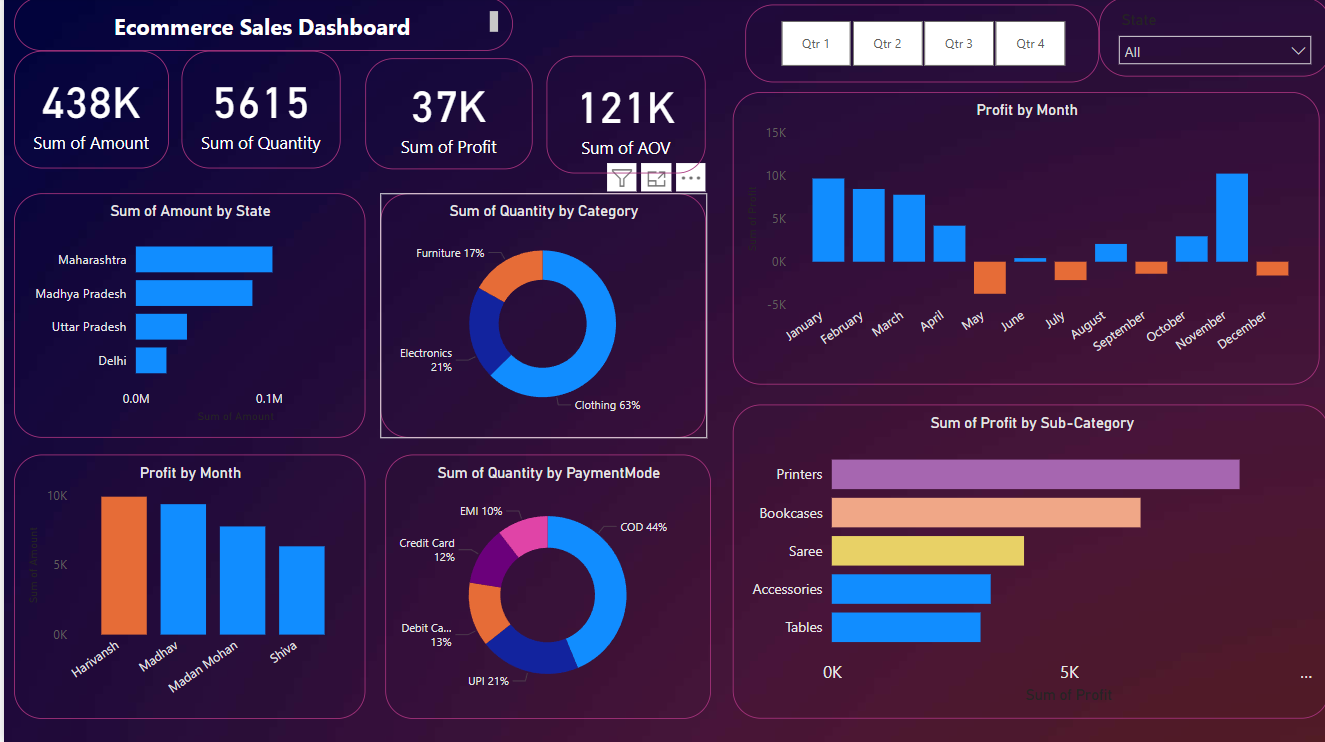

This screenshot's page, from the dashboard's own definition file:
{"tool":"powerbi","page":{"name":"Page 1","canvas":[1280,720],"ordinal":0},"visuals":[{"type":"textbox","box":[9.6,0,481.6,52.1],"z":0},{"type":"columnChart","title":"Profit by Month","fields":{"Y":["Sum(Details.Profit)"],"Category":["Orders.Order Date.Variation.Date Hierarchy.Month"]},"box":[703.9,91.9,566.7,282.7],"z":1000},{"type":"barChart","fields":{"Category":["Details.Sub-Category"],"Y":["Sum(Details.Profit)"]},"box":[703.9,393.8,576.3,303.3],"z":2000},{"type":"donutChart","fields":{"Y":["Sum(Details.Quantity)"],"Category":["Details.Category"]},"box":[363.6,189.4,314.2,236],"z":3000},{"type":"donutChart","fields":{"Y":["Sum(Details.Quantity)"],"Category":["Details.PaymentMode"]},"box":[367.8,441.9,314.2,255.2],"z":4000},{"type":"card","fields":{"Values":["Sum(Details.Amount)"]},"box":[9.6,52.1,149.6,113.9],"z":5000},{"type":"card","fields":{"Values":["Sum(Details.Quantity)"]},"box":[171.5,52.1,153.7,113.9],"z":6000},{"type":"card","fields":{"Values":["Sum(Details.Profit)"]},"box":[348.5,59,161.9,107],"z":7000},{"type":"card","fields":{"Values":["Sum(Details.AOV)"]},"box":[524.2,56.3,153.7,113.9],"z":8000},{"type":"barChart","fields":{"Category":["Orders.State"],"Y":["Sum(Details.Amount)"]},"box":[9.6,189.4,338.9,236],"z":9000},{"type":"columnChart","title":"Profit by Month","fields":{"Category":["Orders.CustomerName"],"Y":["Sum(Details.Amount)"]},"box":[9.6,441.9,338.9,255.2],"z":10000},{"type":"slicer","fields":{"Values":["Orders.Order Date.Variation.Date Hierarchy.Quarter"]},"box":[714.9,6.9,341.7,75.5],"z":11000},{"type":"slicer","fields":{"Values":["Orders.State"]},"box":[1056.6,0,223.7,76.8],"z":12000}]}

Visuals, with their boxes in screenshot pixels (x1, y1, x2, y2), scaled from the page's 1280x720 canvas onto the 1325x742 screenshot:
textbox: x1=10, y1=0, x2=508, y2=54
"Profit by Month" columnChart: x1=729, y1=95, x2=1315, y2=386
barChart - Details.Sub-Category x Sum(Details.Profit): x1=729, y1=406, x2=1324, y2=718
donutChart - Sum(Details.Quantity) x Details.Category: x1=376, y1=195, x2=702, y2=438
donutChart - Sum(Details.Quantity) x Details.PaymentMode: x1=381, y1=455, x2=706, y2=718
card - Sum(Details.Amount): x1=10, y1=54, x2=165, y2=171
card - Sum(Details.Quantity): x1=178, y1=54, x2=337, y2=171
card - Sum(Details.Profit): x1=361, y1=61, x2=528, y2=171
card - Sum(Details.AOV): x1=543, y1=58, x2=702, y2=175
barChart - Orders.State x Sum(Details.Amount): x1=10, y1=195, x2=361, y2=438
"Profit by Month" columnChart: x1=10, y1=455, x2=361, y2=718
slicer - Orders.Order Date.Variation.Date Hierarchy.Quarter: x1=740, y1=7, x2=1094, y2=85
slicer - Orders.State: x1=1094, y1=0, x2=1324, y2=79
